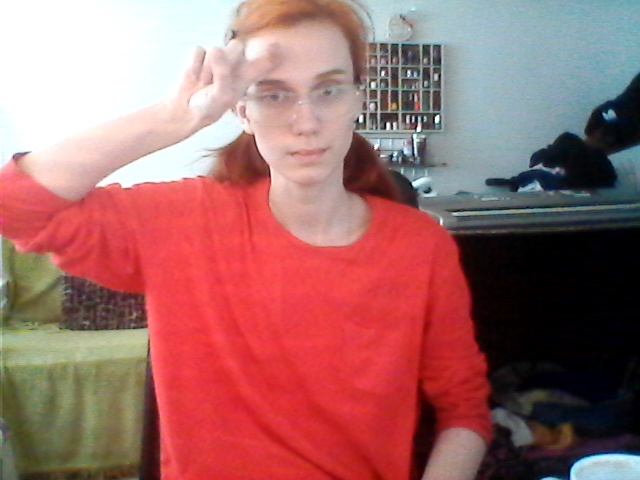chlapec: (176, 33, 294, 127)
